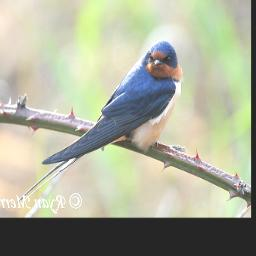Swallow: (15, 39, 184, 206)
